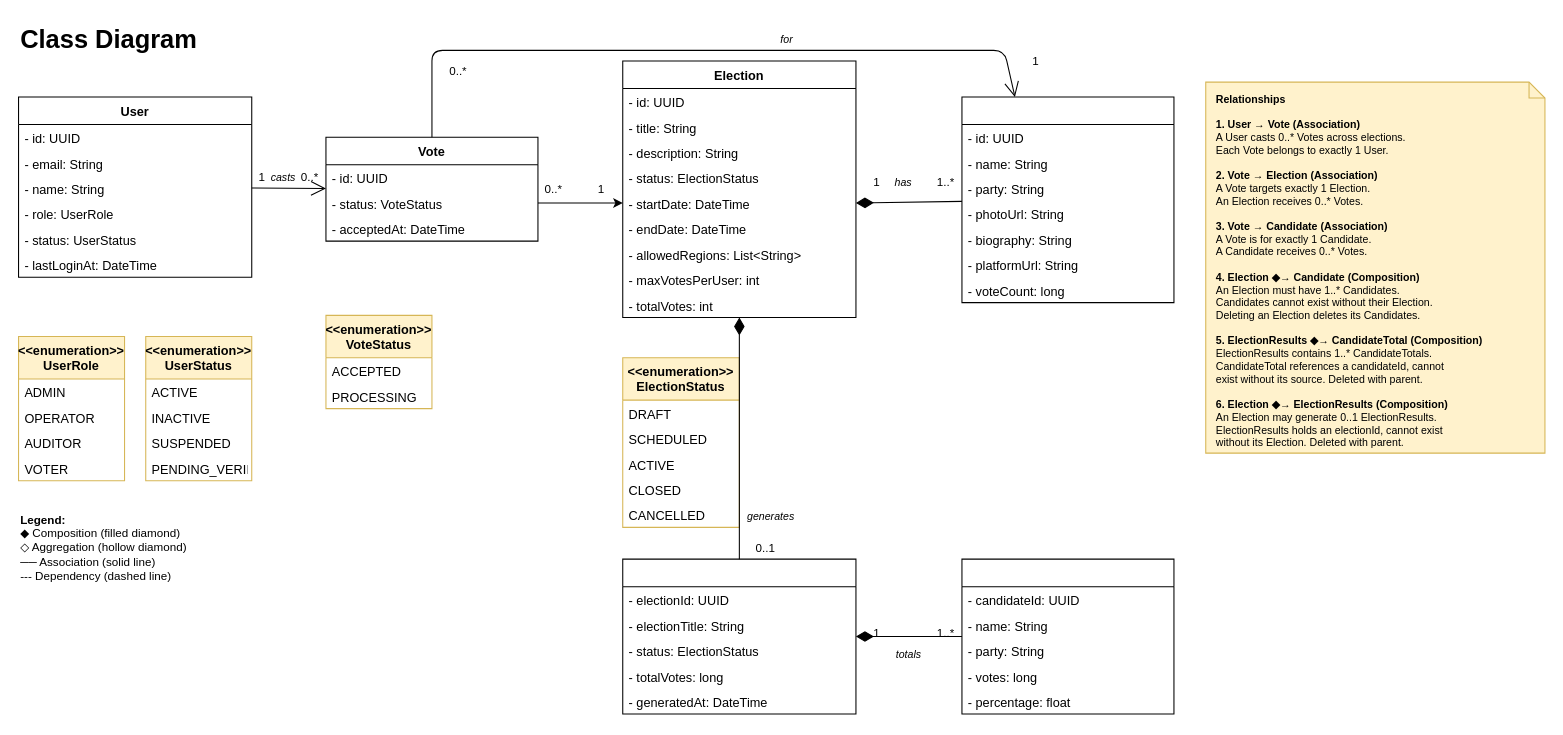
The diagram is 1563 pixels wide and 735 high, and some of its shapes have lost their labels. Here are the shapes that lost their labels. From the top down, the box of each, then its label:
(961, 96, 1174, 303): Candidate
(622, 558, 856, 714): ElectionResults
(961, 558, 1174, 714): CandidateTotal
